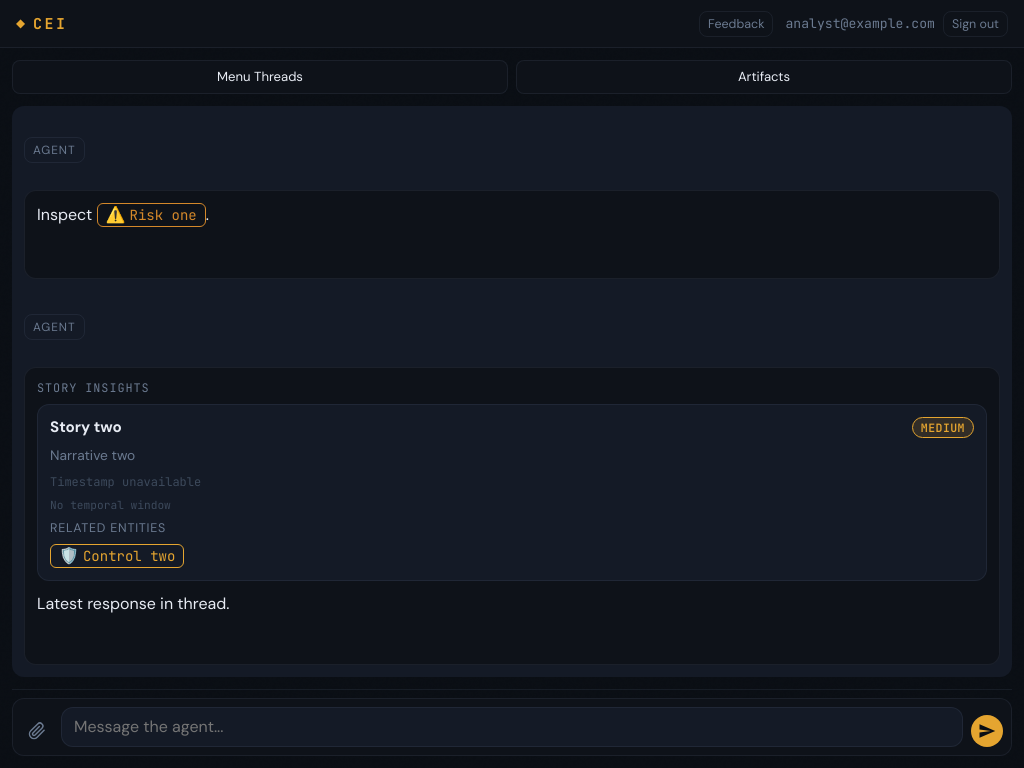
Test: CommandCenter compact layout › uses clicked message modernContext for entity detail instead of latestModernContext
Click the button "⚠️ Risk one" at point(151, 215), box left=96, top=203, right=206, bottom=227
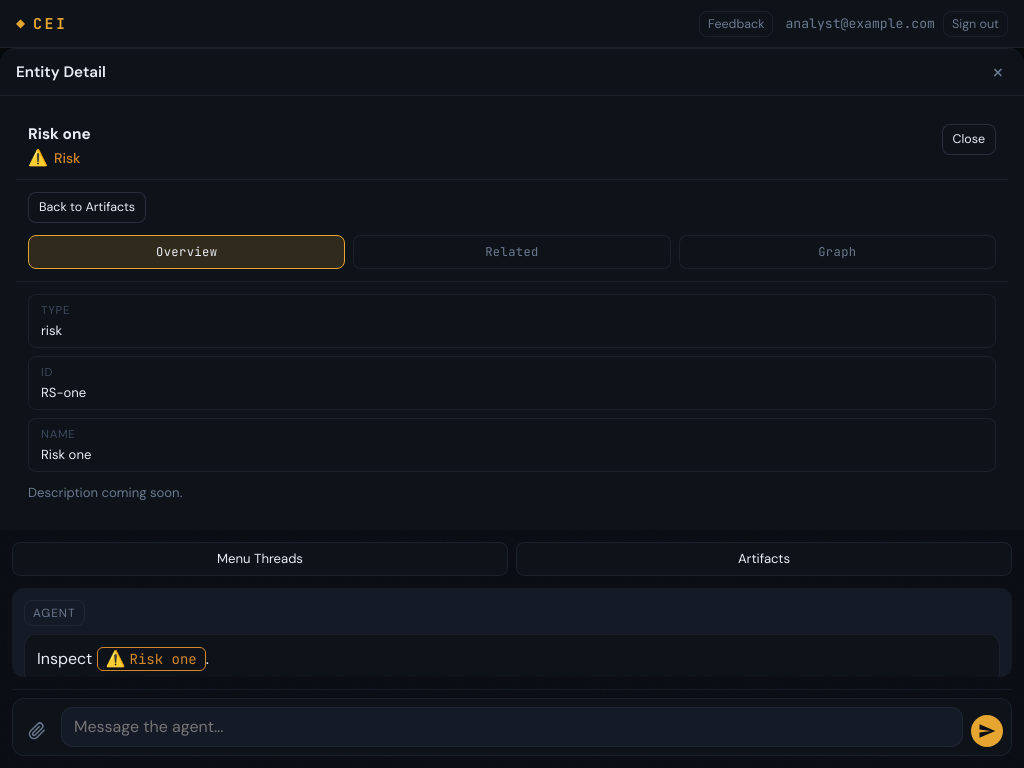
Click the tab "Related" at point(512, 252), box left=353, top=235, right=671, bottom=269
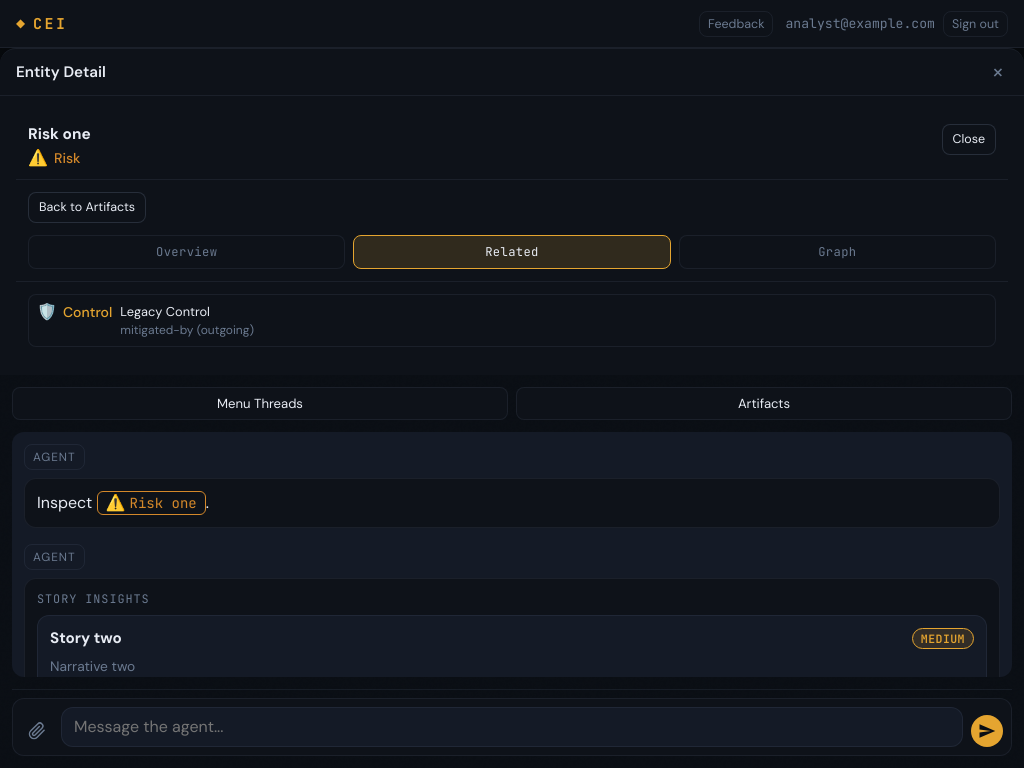
Result: the text "Legacy Control" is shown at left=120, top=303, right=210, bottom=320
